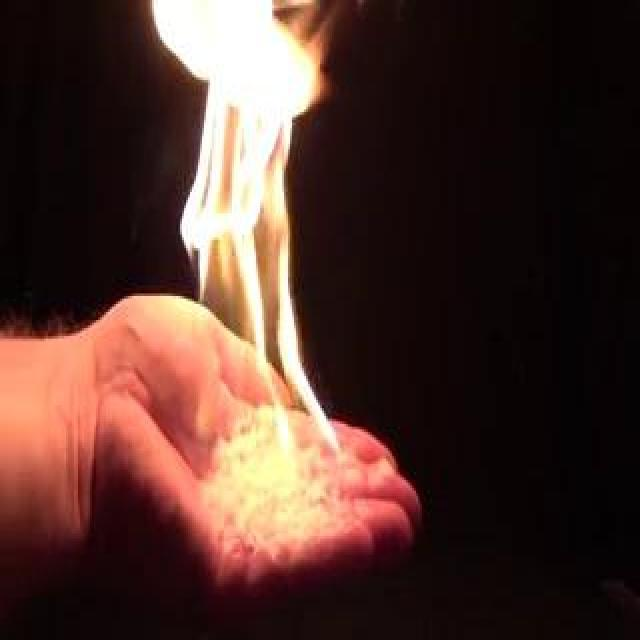Fire: (150, 3, 342, 488)
